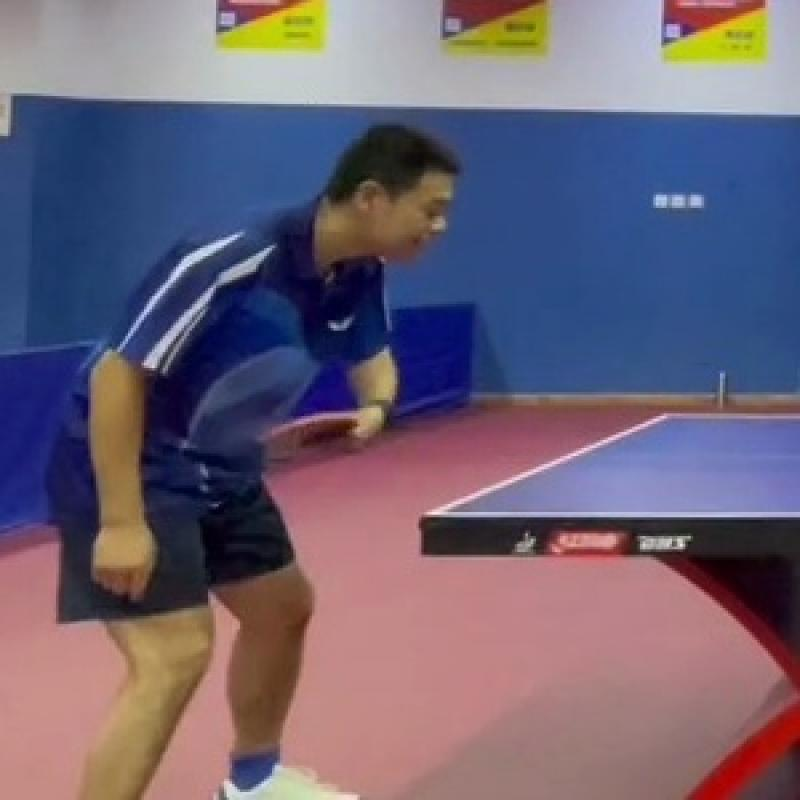bats: (260, 374, 375, 478)
